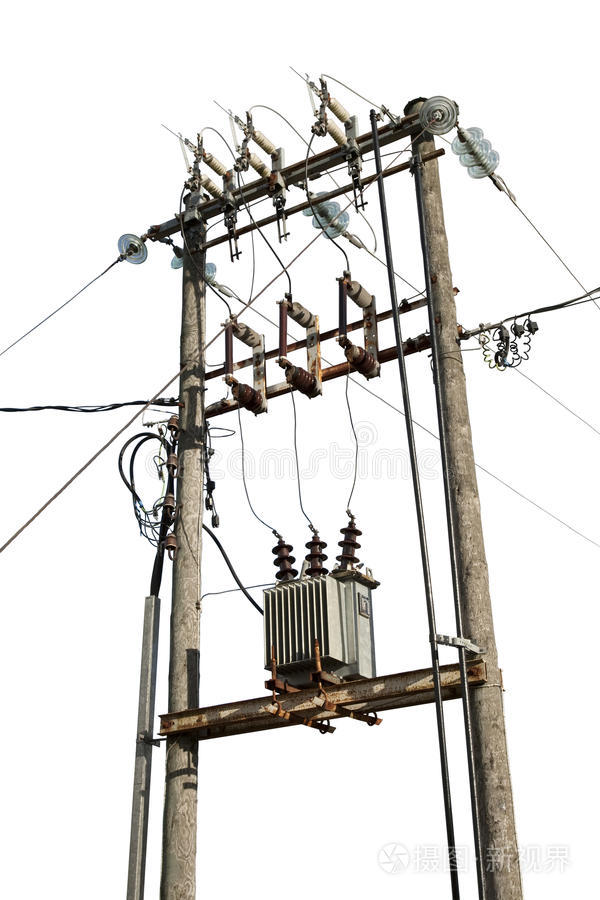insulator: (452, 128, 500, 178), (301, 190, 350, 236), (268, 543, 297, 581), (337, 526, 363, 566), (117, 230, 146, 265), (303, 538, 329, 577)
